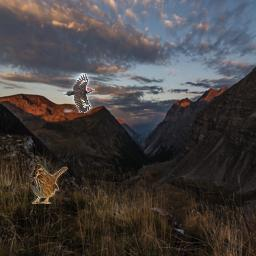Sparrow: (30, 164, 68, 204)
Woodpecker: (63, 73, 95, 113)
